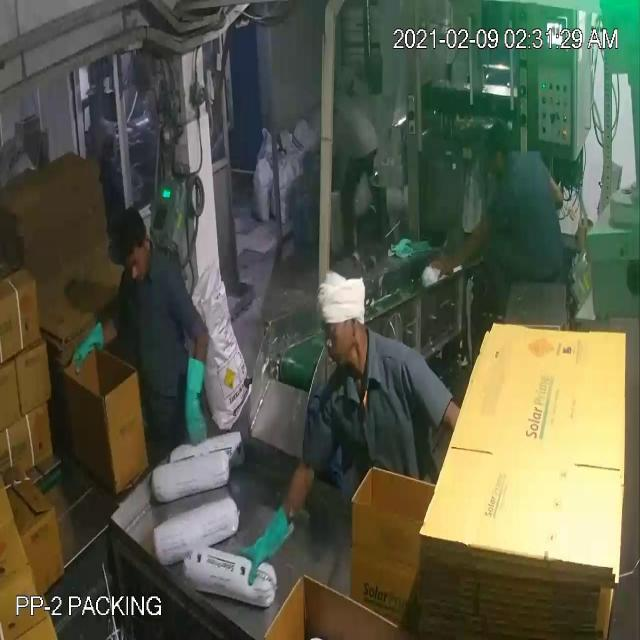Gloves: (47, 62, 461, 542)
